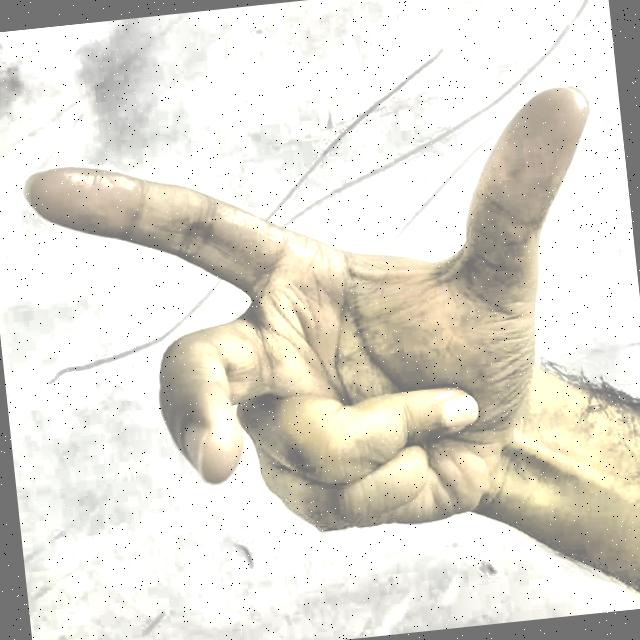Da: (0, 4, 640, 617)
